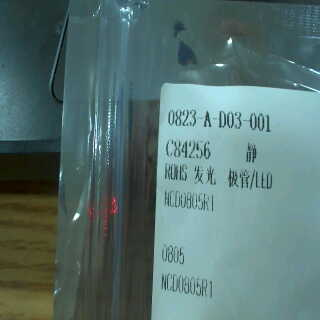LED: (195, 157, 278, 193)
